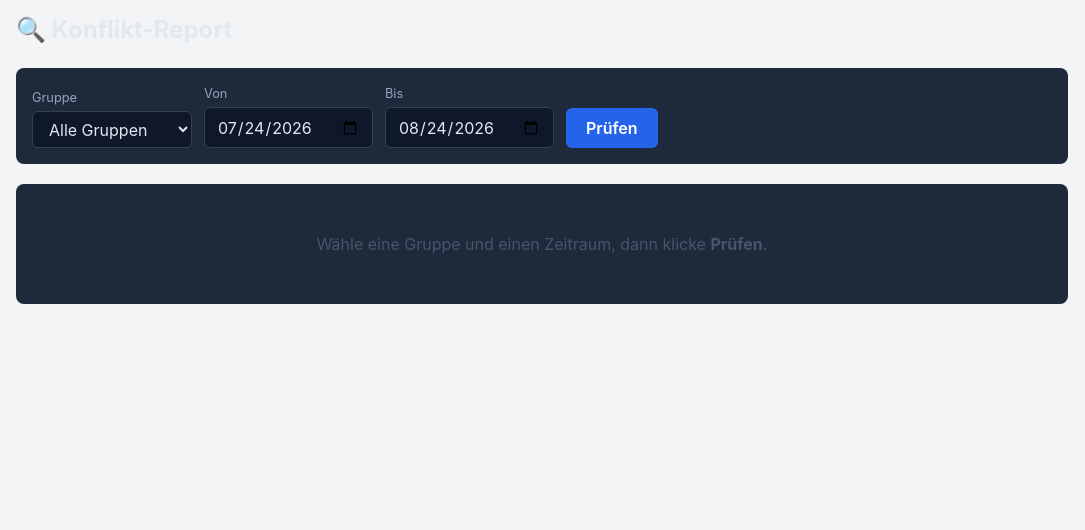
Scenario: ConflictReport › displays summary bar after successful check
The width and height of the screenshot is (1085, 530).
Click the button with test id "pruefen-btn" at [612, 128], box [566,108,658,148]
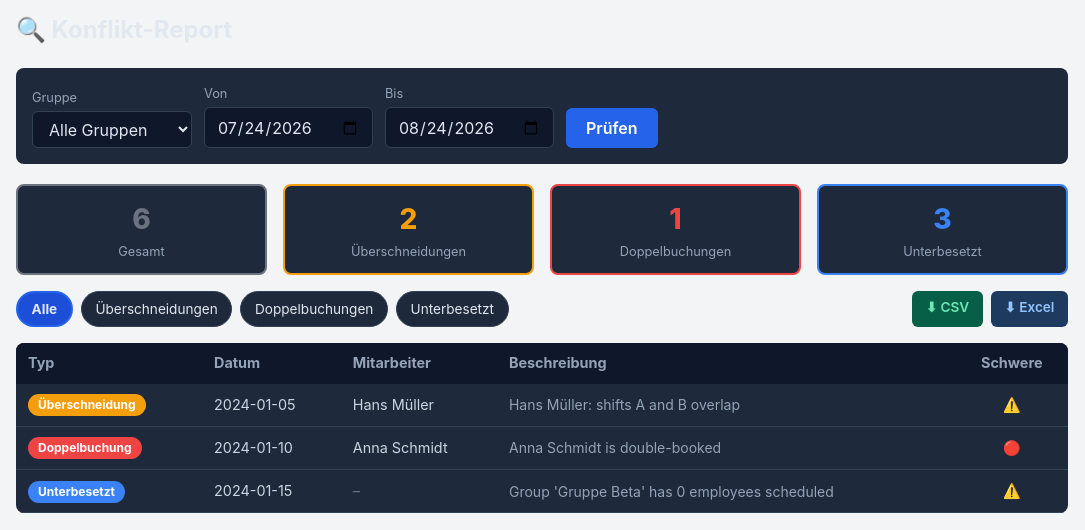
Expected: the element with test id "summary-bar" is shown, [16,184,1068,275]
Expected: the element with test id "summary-total" is shown, [16,184,267,275]
Expected: the element with test id "summary-overlaps" is shown, [283,184,534,275]
